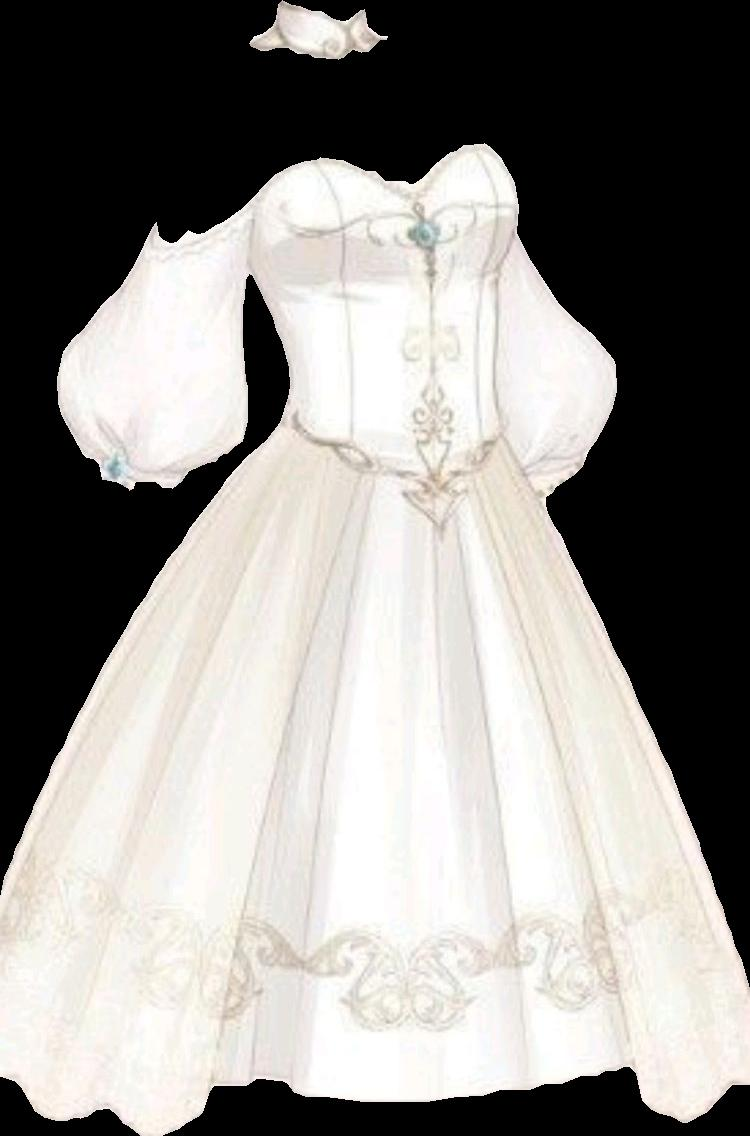Bodice: (246, 144, 518, 508)
Hemline: (0, 469, 373, 1134), (472, 474, 748, 1131), (0, 1060, 749, 1135)
Neckline: (241, 140, 492, 217)
Skirt: (0, 426, 749, 1135)
Sleeve: (57, 205, 252, 490)
Sleeveline: (241, 205, 259, 280)
Waistline: (272, 421, 513, 515)
